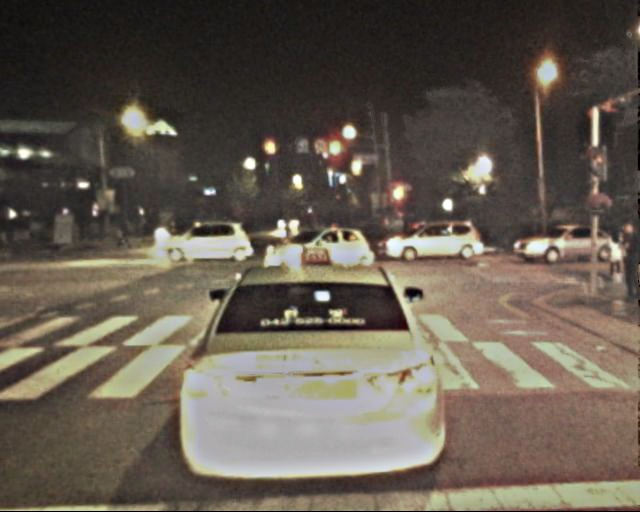person: (614, 220, 640, 295), (599, 229, 622, 285), (117, 215, 132, 251), (161, 215, 175, 249), (277, 215, 290, 246), (305, 220, 328, 234)
